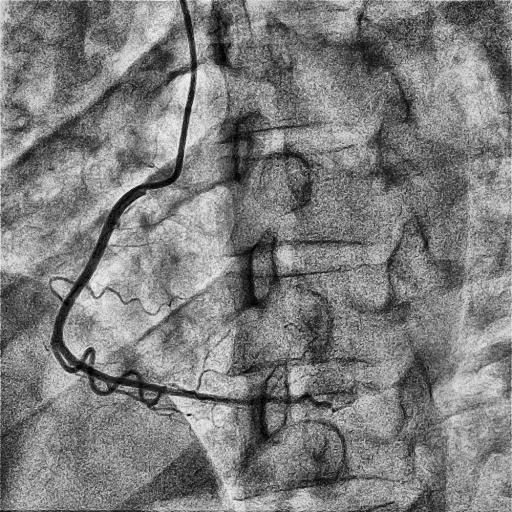rca: (51, 185, 275, 405)
